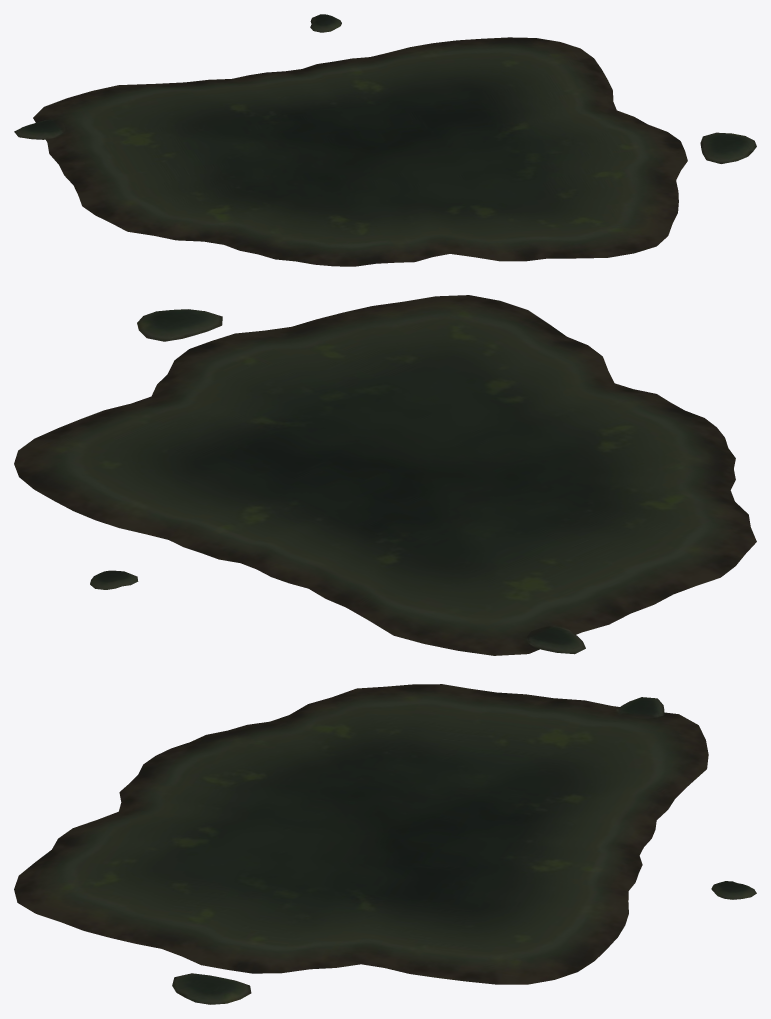
The model's file is decal_puddle.glb.
3 views of the same model, one above another, from view 1: azimuth 30°, elevation 25°; view 2: azimuth 150°, elevation 25°; view 3: azimuth 270°, elevation 25° (orthographic). The views are drawn at different scales.
Parts seen in each view (by area): view 1: decal_puddle; view 2: decal_puddle; view 3: decal_puddle.
Part boxes in pixels (box(x1,y1,x2,y2)): decal_puddle: box(14, 14, 756, 266); decal_puddle: box(14, 295, 756, 655); decal_puddle: box(14, 684, 756, 1004).
Bounding box in the file's own units: 1.83 × 0.014 × 1.79.
Materials: 1 (1 with a texture image).
